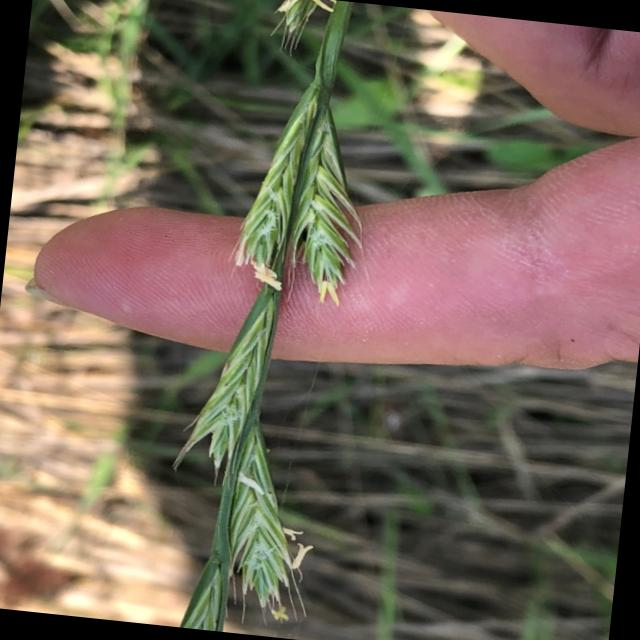Lolium: (153, 0, 390, 639)
